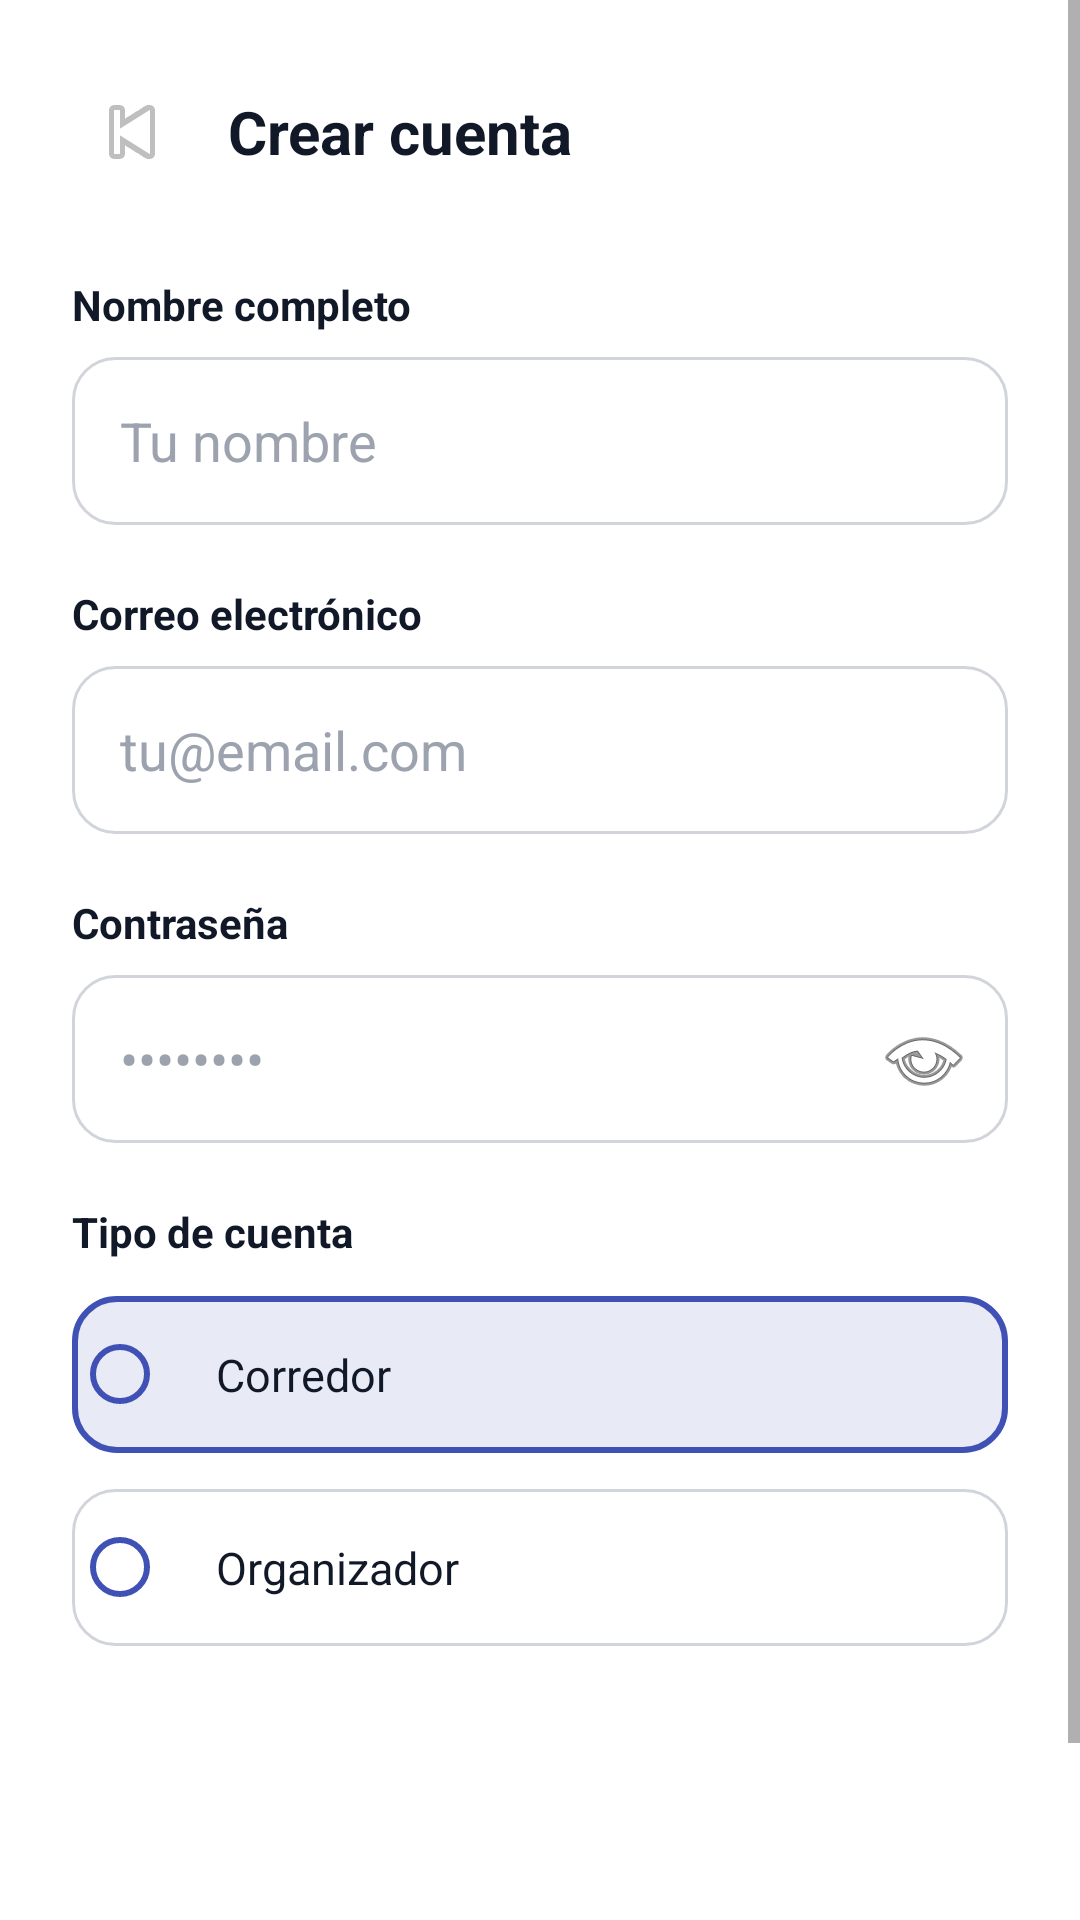

Point at icon controls on the screen. Image size 1080w x 1920h, points as [x,y].
Mostrar u ocultar contraseña: [924,1061]
Volver: [132,132]
